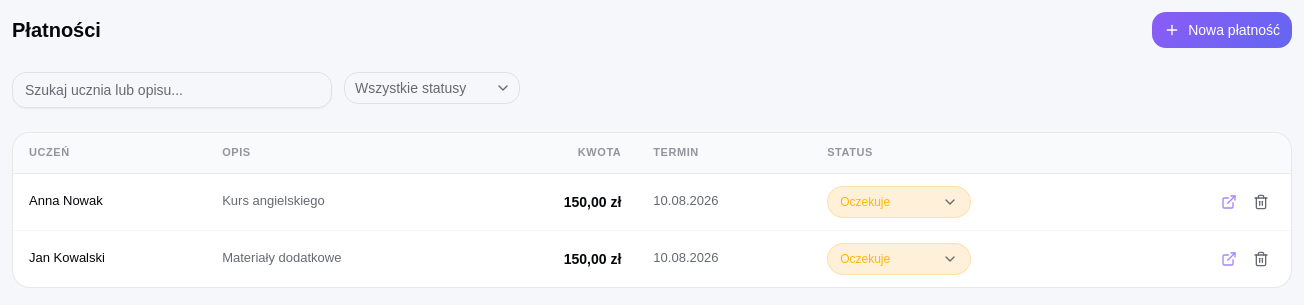
Test: PaymentsPage › wyszukiwarka › filtruje po opisie płatności
Step 1. Type "angielskiego" into the field with placeholder "Szukaj ucznia lub opisu..." → (172, 90), box [12,72,332,108]
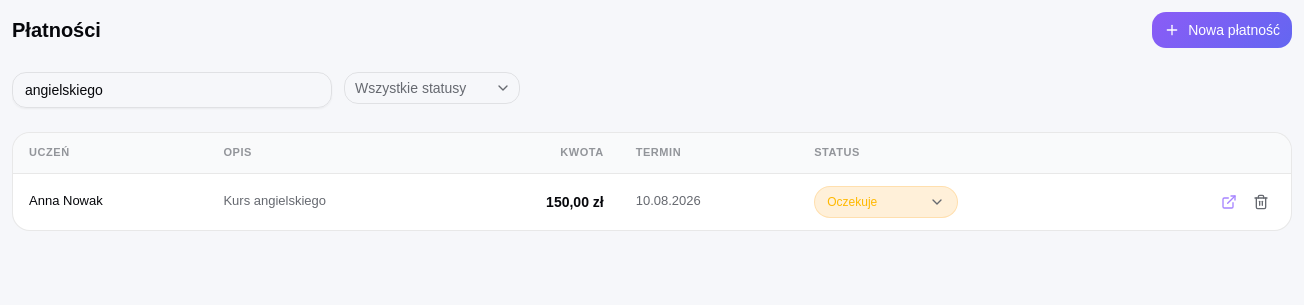
Expected: the text "Kurs angielskiego" is shown, [207,173,455,230]
Expected: the text "Materiały dodatkowe" is gone
